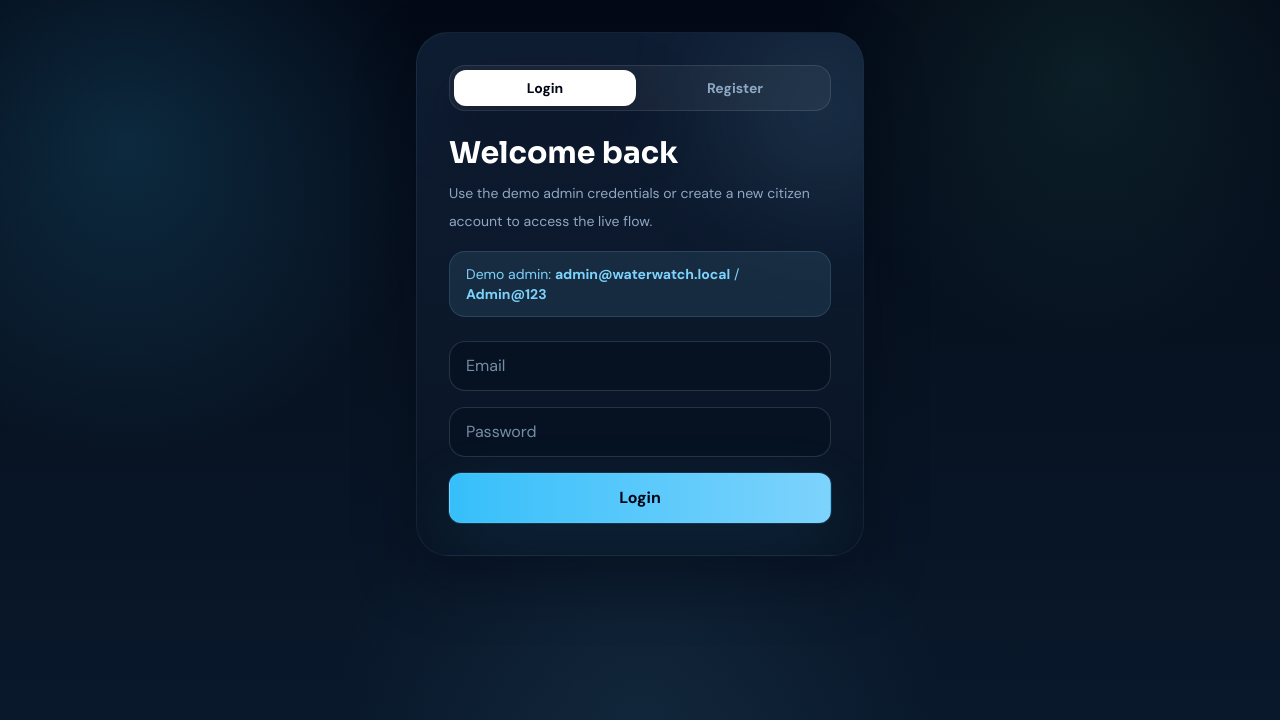
Test: Login page › surfaces authentication failures
The image size is (1280, 720).
Type "user@example.com" into the field with placeholder "Email". click: (640, 366)
box: [449,341,831,391]
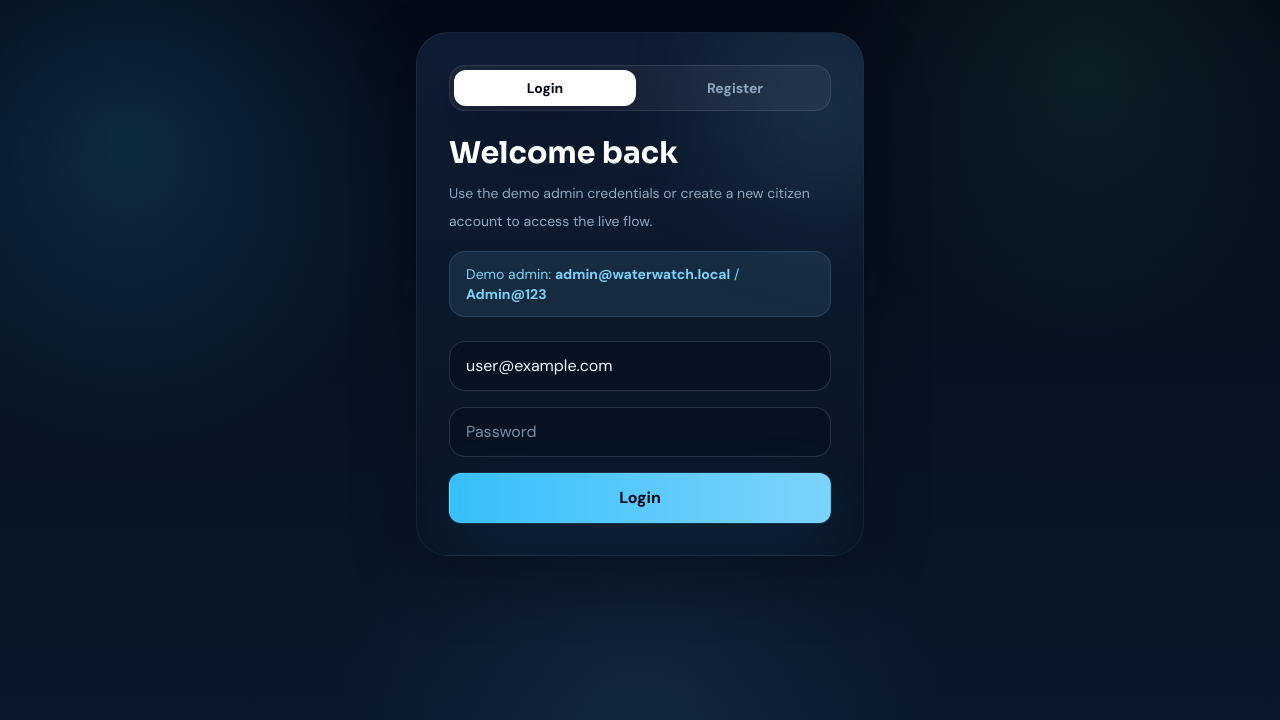
Type "bad-password" into the password field with placeholder "Password". click: (640, 432)
box: [449,407,831,457]
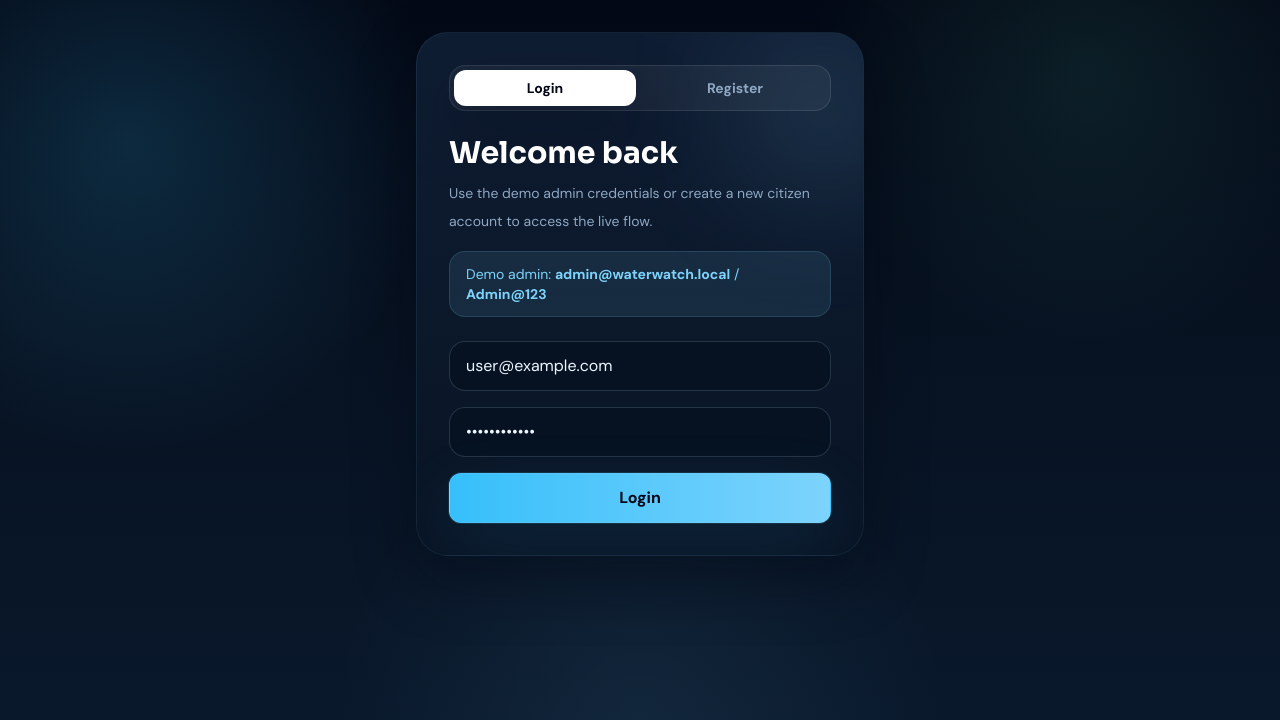
Click the 2nd button "Login". click: (640, 498)
box: [449,473,831,523]
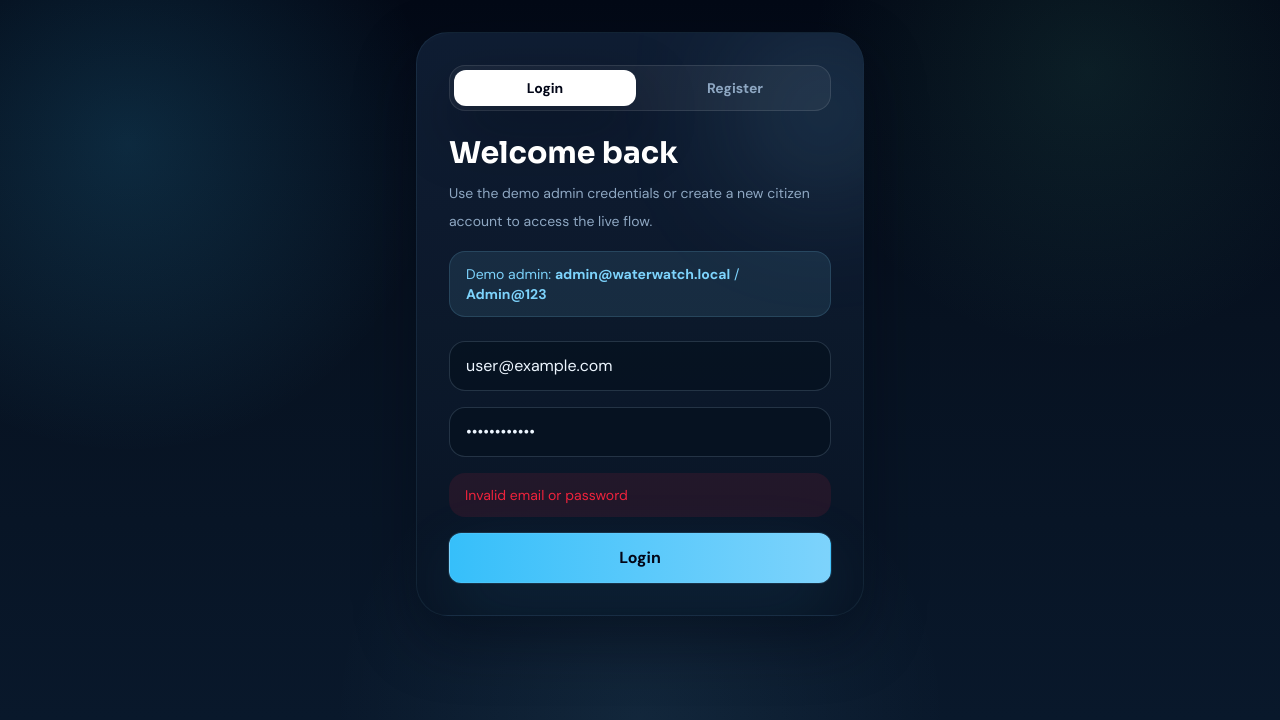
Expected: the text "Invalid email or password" is shown, [449,473,831,517]
